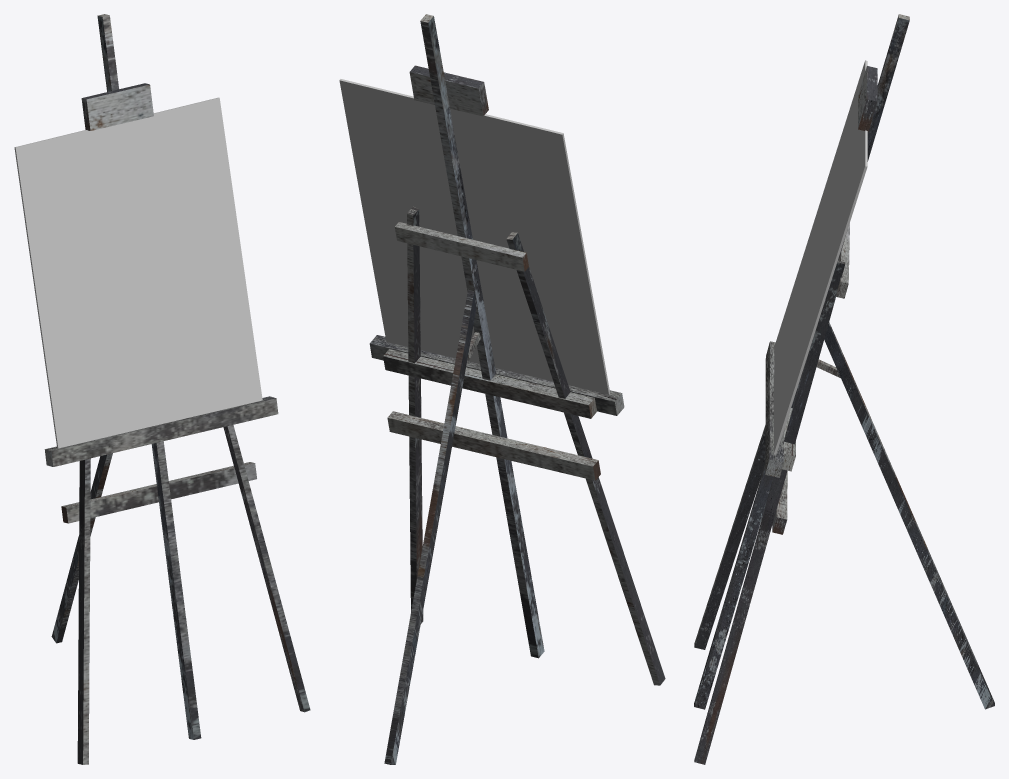
File: Easle.obj
3 renders of one model, left to right at view 1: azimuth 30°, elevation 25°; view 2: azimuth 150°, elevation 25°; view 3: azimuth 270°, elevation 25°, orthographic. The views are drawn at different scales.
Parts seen in each view (by area): view 1: Portal1, Easle; view 2: Portal1, Easle; view 3: Easle, Portal1.
Boxes of the visible parts, <box> form: Portal1: <box>14,97,262,448</box>; Easle: <box>44,14,310,764</box>; Portal1: <box>339,79,610,394</box>; Easle: <box>369,14,665,764</box>; Easle: <box>694,14,994,764</box>; Portal1: <box>773,60,867,454</box>.
Bounding box in the file's own units: 0.8951 × 2.44 × 0.9588.
